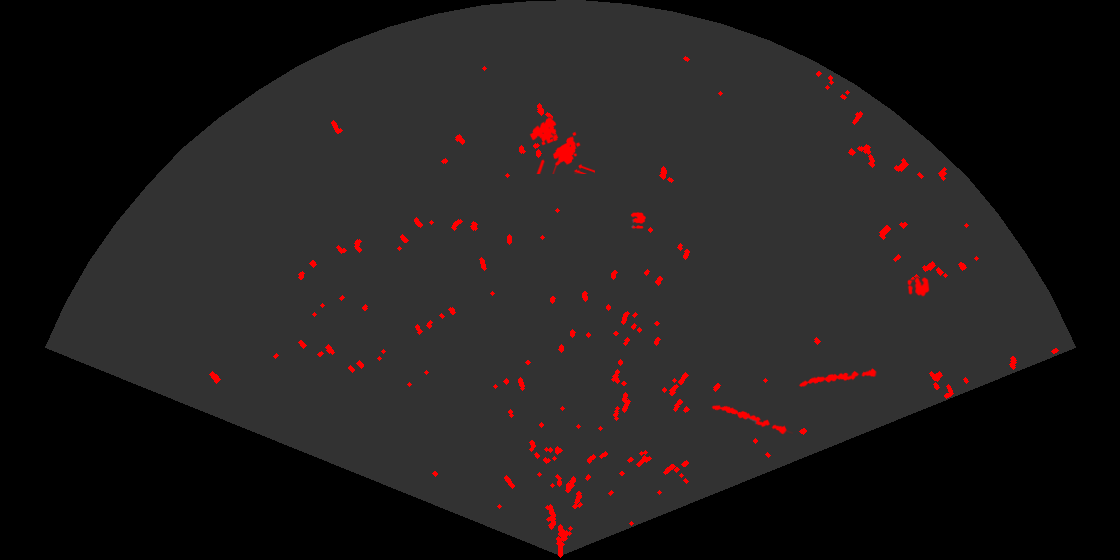ball: (906, 276, 931, 298), (629, 211, 647, 230)
cage: (528, 116, 595, 174)
chain: (710, 403, 793, 436), (797, 367, 877, 388)
